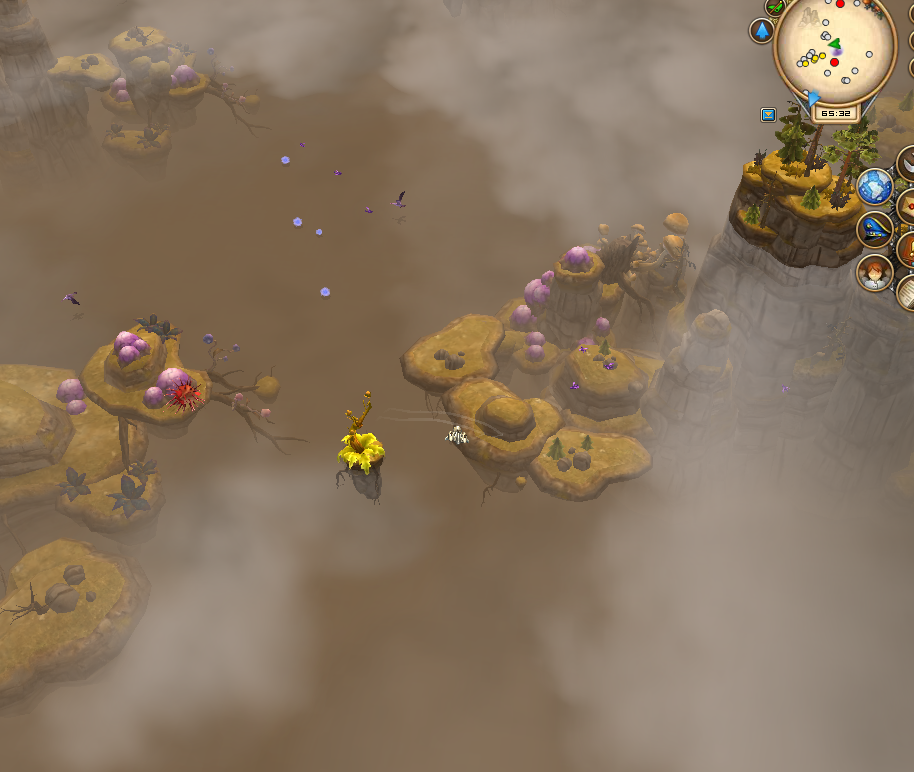dandelion-empty: (328, 386, 393, 502)
fluff: (316, 282, 334, 302), (290, 214, 304, 230), (279, 153, 292, 167), (313, 225, 325, 237)
